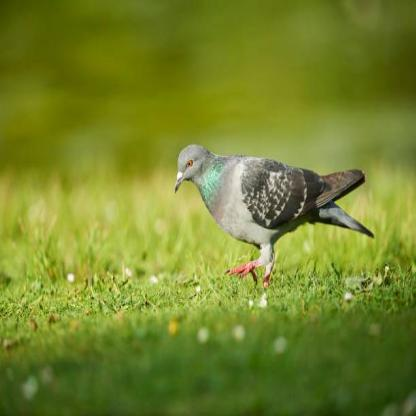Rock Pigeon: (172, 144, 377, 266)
